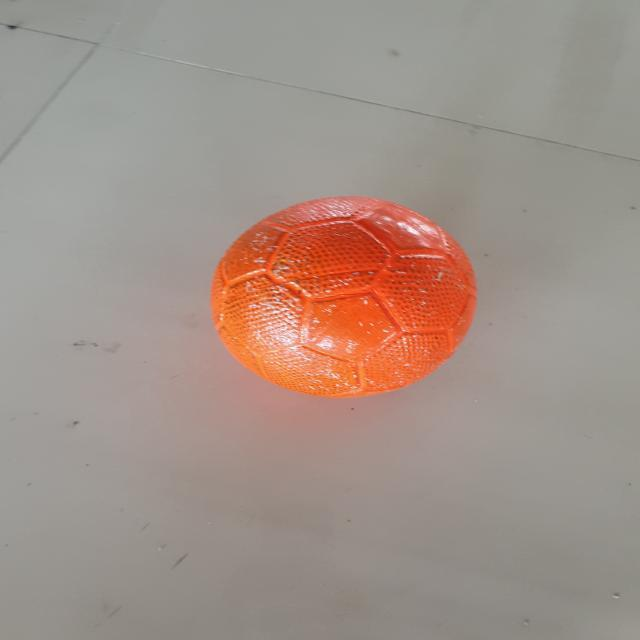bola: (202, 189, 490, 409)
